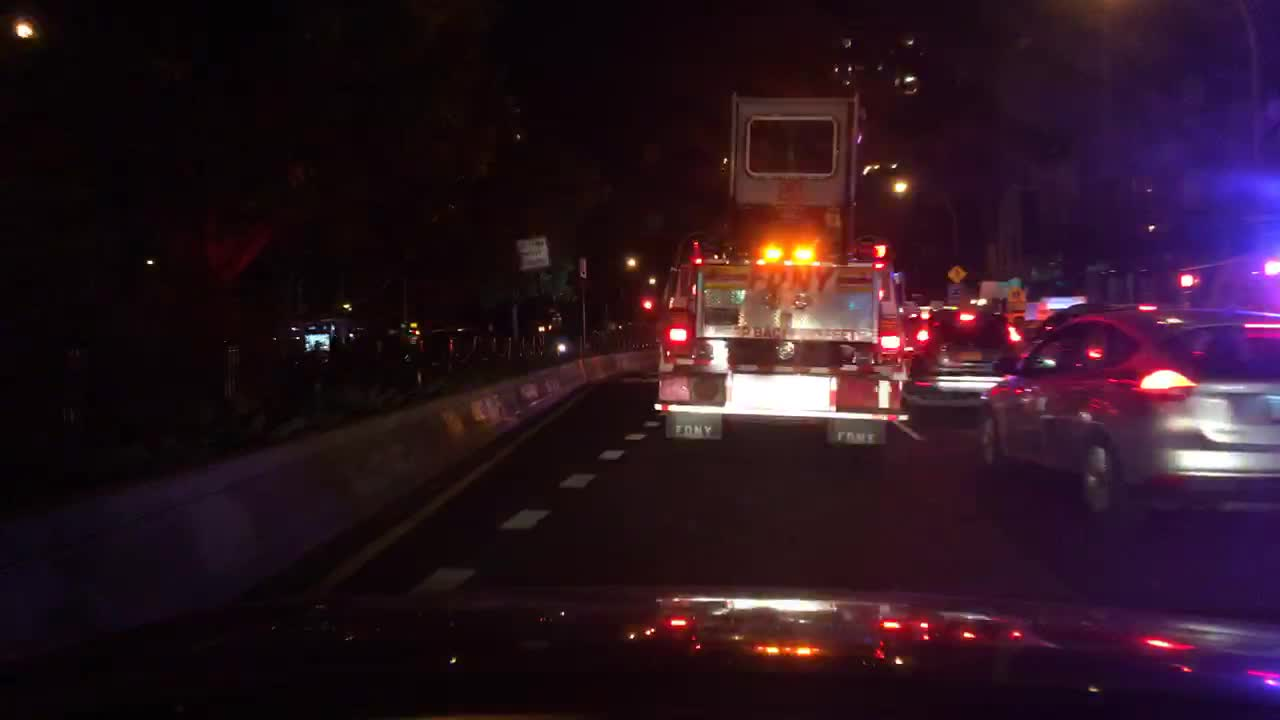car: (978, 300, 1279, 515), (903, 304, 1032, 416), (419, 326, 483, 365), (603, 315, 648, 347), (895, 305, 931, 332)
traffic light: (1177, 271, 1196, 287), (1263, 259, 1279, 276), (640, 297, 653, 312)
traffic sign: (514, 237, 551, 270), (1024, 301, 1049, 322), (947, 265, 966, 282), (947, 283, 962, 304), (1006, 286, 1026, 301), (577, 257, 587, 280), (1008, 301, 1026, 310)
truck: (654, 93, 908, 451)
